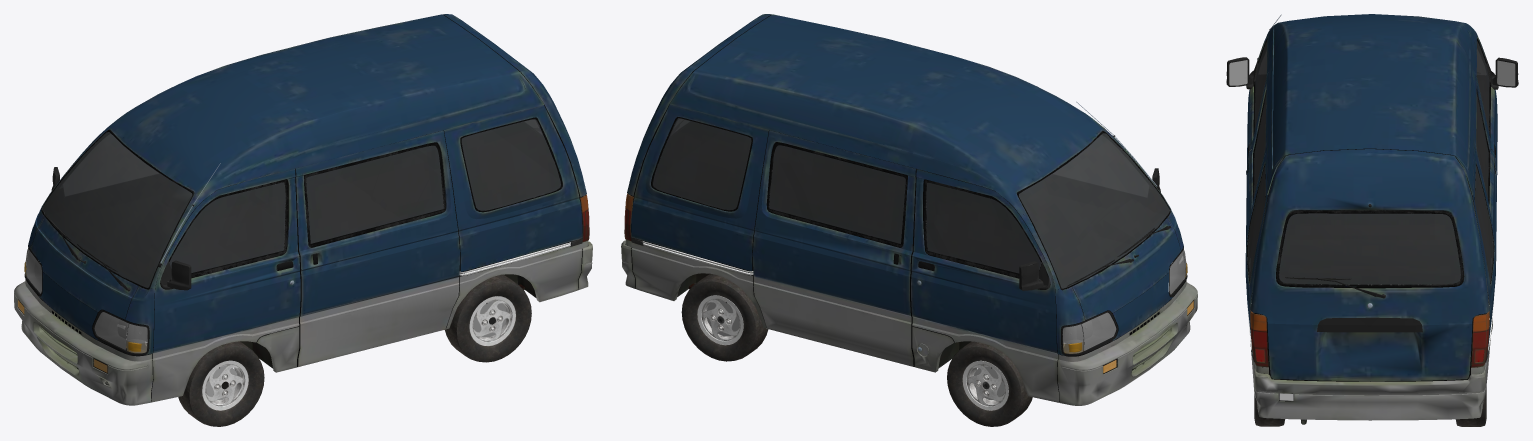
File: towner.glb
3 renders of one model, left to right at view 1: azimuth 30°, elevation 25°; view 2: azimuth 150°, elevation 25°; view 3: azimuth 270°, elevation 25°, orthographic. The views are drawn at different scales.
Parts seen in each view (by area): view 1: Body, Windows, BlackStuff, Wheel_lp.001, Wheel_lp.002, Trims.001, Lights.008, Lights.004, Trims.003, Body.007, Lights.003; view 2: Body, Windows, BlackStuff, Wheel_lp.004, Wheel_lp.003, Trims.001, Lights.008, Lights.004, Trims.003, Body.007, Lights.003; view 3: Body, Windows, BlackStuff, Trims.001, Lights.006, Trims, Lights.007, Trims.002, Trims.003, Wheel_lp.004, Wheel_lp.001, Trims.004.
Boxes of the visible parts, x1=… form: Body: x1=14, y1=14, x2=592, y2=405; Windows: x1=42, y1=119, x2=560, y2=287; BlackStuff: x1=26, y1=14, x2=585, y2=401; Wheel_lp.001: x1=445, y1=274, x2=531, y2=362; Wheel_lp.002: x1=178, y1=341, x2=264, y2=426; Trims.001: x1=41, y1=117, x2=562, y2=289; Lights.008: x1=24, y1=248, x2=147, y2=353; Lights.004: x1=24, y1=248, x2=147, y2=353; Trims.003: x1=51, y1=167, x2=191, y2=290; Body.007: x1=240, y1=274, x2=536, y2=368; Lights.003: x1=24, y1=245, x2=149, y2=355; Body: x1=621, y1=14, x2=1197, y2=405; Windows: x1=653, y1=118, x2=1169, y2=288; BlackStuff: x1=625, y1=14, x2=1185, y2=401; Wheel_lp.004: x1=681, y1=274, x2=768, y2=361; Wheel_lp.003: x1=947, y1=341, x2=1032, y2=426; Trims.001: x1=651, y1=117, x2=1170, y2=290; Lights.008: x1=1062, y1=250, x2=1187, y2=353; Lights.004: x1=1062, y1=249, x2=1187, y2=353; Trims.003: x1=1019, y1=168, x2=1160, y2=290; Body.007: x1=677, y1=273, x2=1095, y2=368; Lights.003: x1=1061, y1=246, x2=1187, y2=356; Body: x1=1245, y1=14, x2=1497, y2=420; Windows: x1=1247, y1=41, x2=1493, y2=284; BlackStuff: x1=1249, y1=42, x2=1491, y2=381; Trims.001: x1=1247, y1=38, x2=1494, y2=288; Lights.006: x1=1250, y1=310, x2=1489, y2=367; Trims: x1=1257, y1=29, x2=1422, y2=332; Lights.007: x1=1251, y1=313, x2=1488, y2=365; Trims.002: x1=1229, y1=60, x2=1515, y2=86; Trims.003: x1=1226, y1=57, x2=1518, y2=89; Wheel_lp.004: x1=1455, y1=387, x2=1486, y2=426; Wheel_lp.001: x1=1254, y1=394, x2=1285, y2=426; Trims.004: x1=1285, y1=277, x2=1385, y2=298.
Size of the model in its own units: 3.45 by 1.87 by 1.66.
6 materials, 6 textured.
